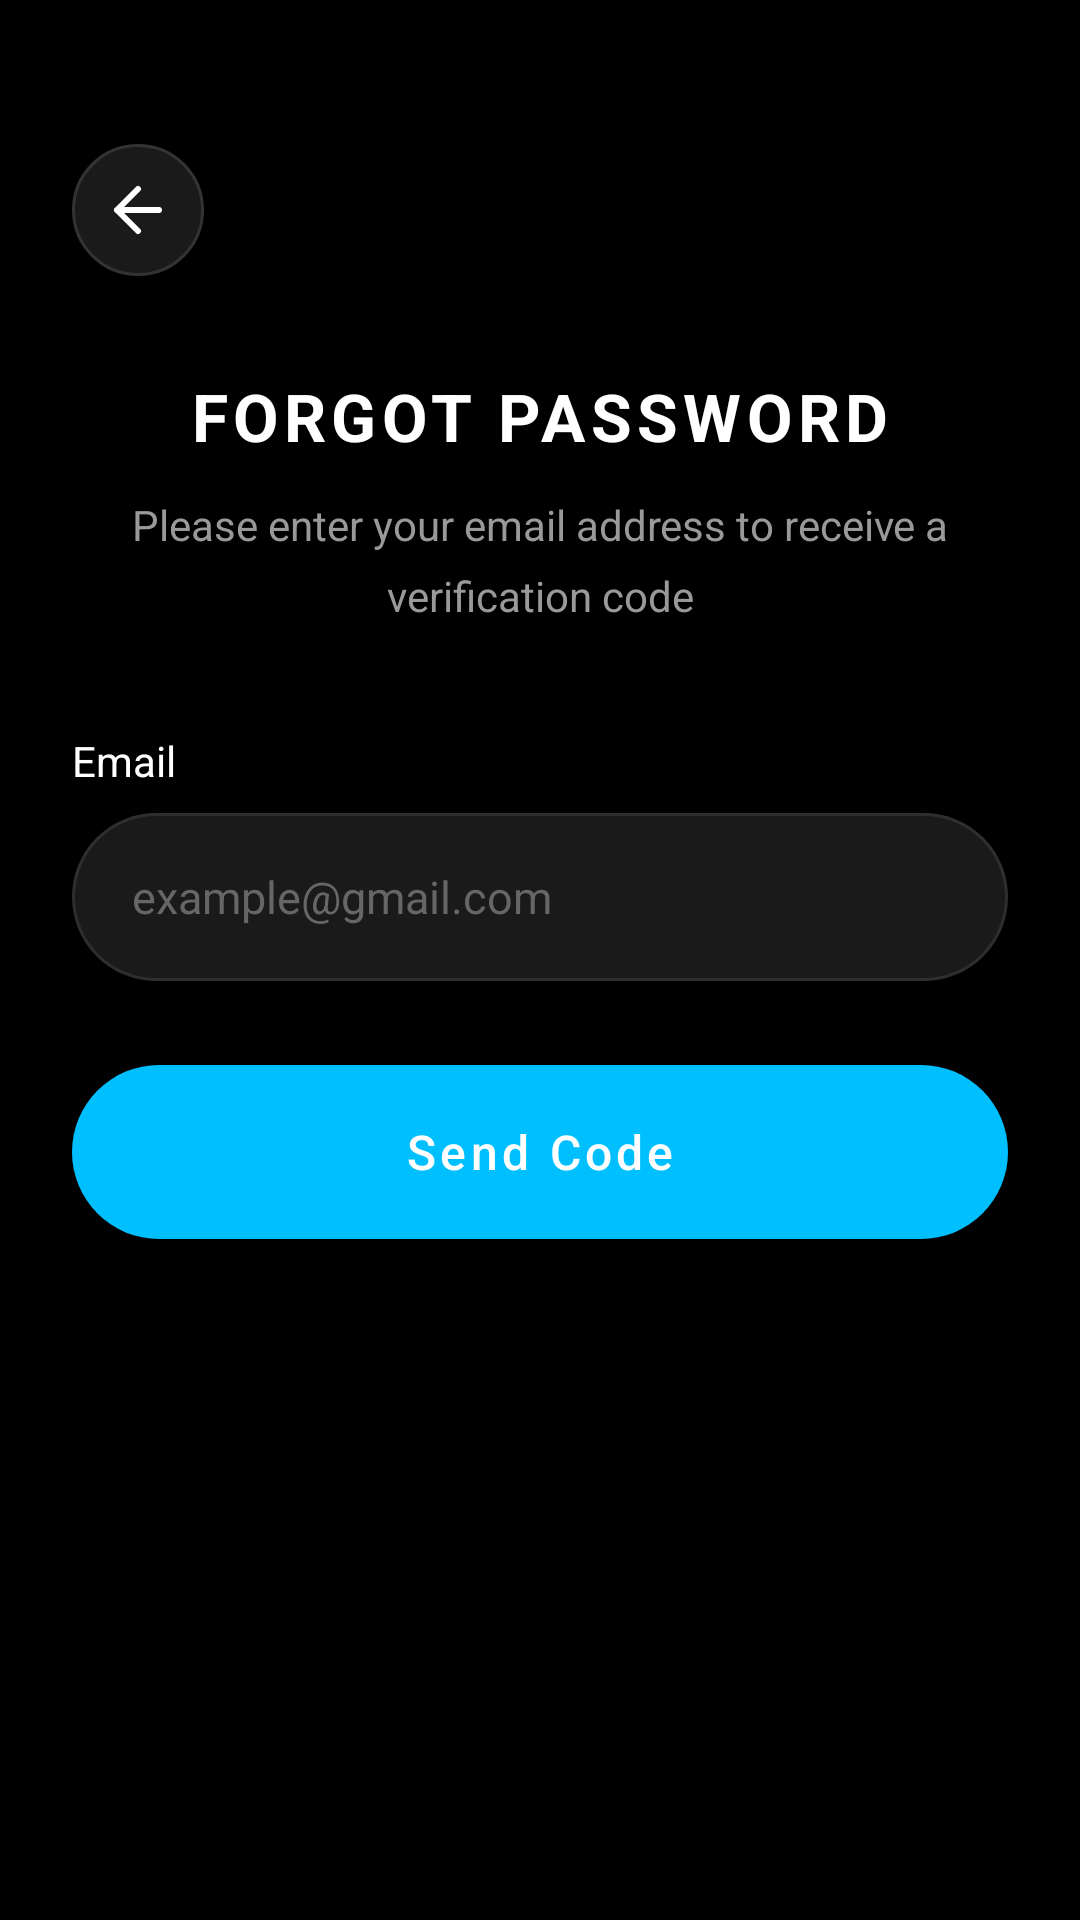

Icon bounding boxes for this 1080×1920 phone screenshot, format (x1, y1, x2, y2):
Back: (72, 144, 204, 276)
